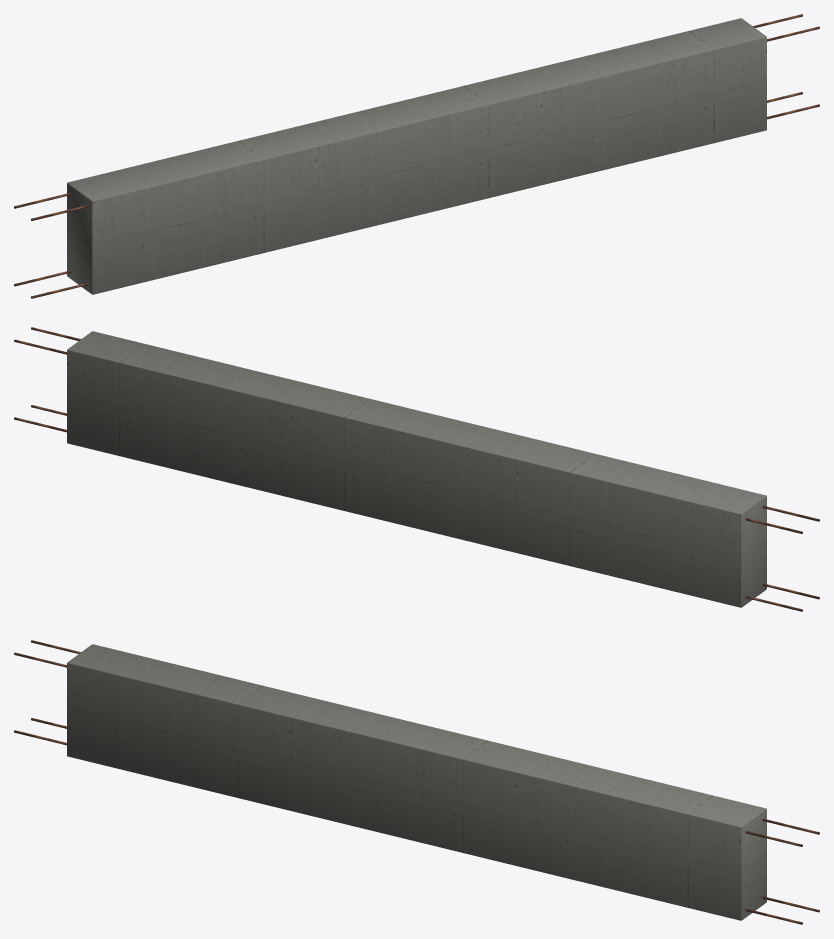
Rendered from FUN-VBA-002.glb.
The picture shows the model from 3 angles, top to bottom: view 1: azimuth 30°, elevation 25°; view 2: azimuth 150°, elevation 25°; view 3: azimuth 330°, elevation 25°; orthographic projection.
Visible parts, largest first — view 1: FUN-VBA-002_viga; view 2: FUN-VBA-002_viga; view 3: FUN-VBA-002_viga.
Boxes of the visible parts, left/top/right/bottom form: FUN-VBA-002_viga: left=67, top=18, right=766, bottom=294; FUN-VBA-002_viga: left=67, top=331, right=766, bottom=607; FUN-VBA-002_viga: left=67, top=644, right=766, bottom=920.
Size of the model in its own units: 3.5 by 0.3999 by 0.2.
2 materials, 2 textured.
